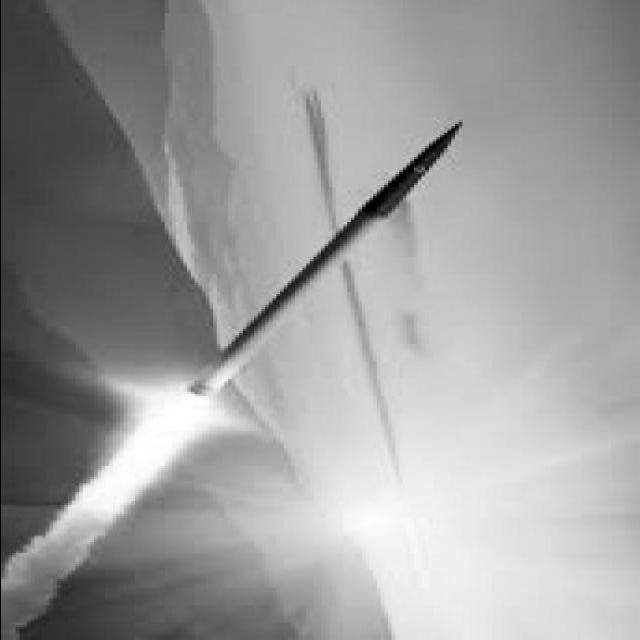Missile: (195, 112, 470, 400)
